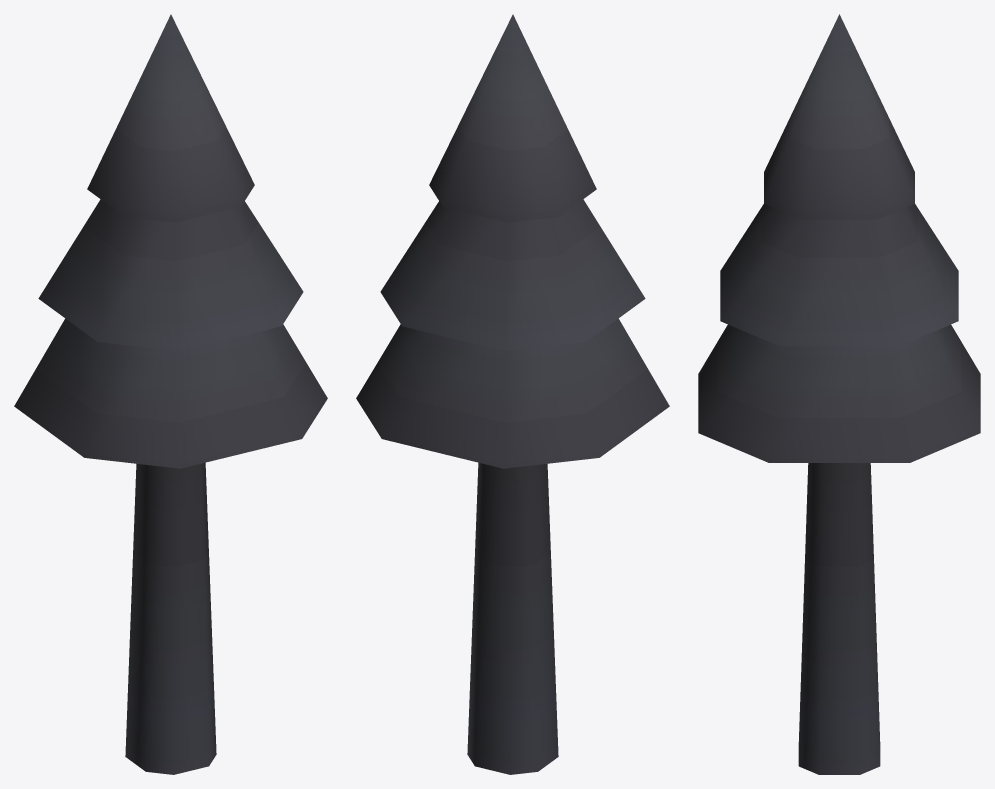
File: tree-tall-large.glb
3 views of the same model, side by side, from view 1: azimuth 30°, elevation 25°; view 2: azimuth 150°, elevation 25°; view 3: azimuth 270°, elevation 25° (orthographic).
Visible parts, largest first — view 1: tree-tall-large; view 2: tree-tall-large; view 3: tree-tall-large.
Boxes of the visible parts, x1,y1,x2,y2 form: tree-tall-large: [14, 14, 327, 774]; tree-tall-large: [356, 14, 669, 774]; tree-tall-large: [698, 14, 980, 774].
Size of the model in its own units: 1 by 2.91 by 1.
Materials: 1 (1 with a texture image).
